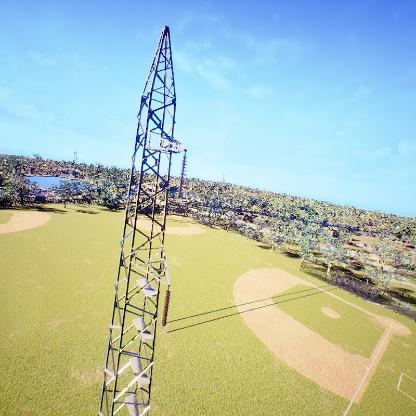tower: (93, 23, 193, 416)
